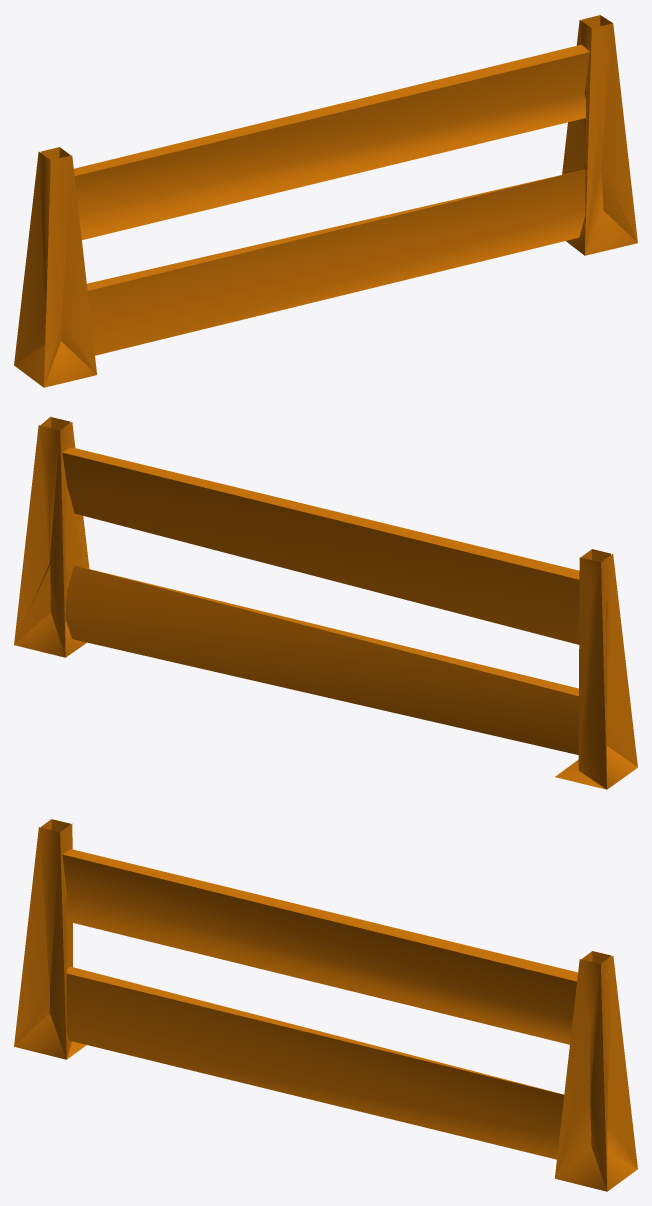
The model's file is guard_rail-lo.glb.
The picture shows the model from 3 angles, top to bottom: view 1: azimuth 30°, elevation 25°; view 2: azimuth 150°, elevation 25°; view 3: azimuth 330°, elevation 25°; orthographic projection.
Visible parts, largest first — view 1: body; view 2: body; view 3: body.
Boxes of the visible parts, x1=… form: body: x1=14, y1=15, x2=637, y2=387; body: x1=14, y1=416, x2=637, y2=789; body: x1=14, y1=819, x2=637, y2=1191.
Size of the model in its own units: 2.78 by 0.9706 by 0.25.
